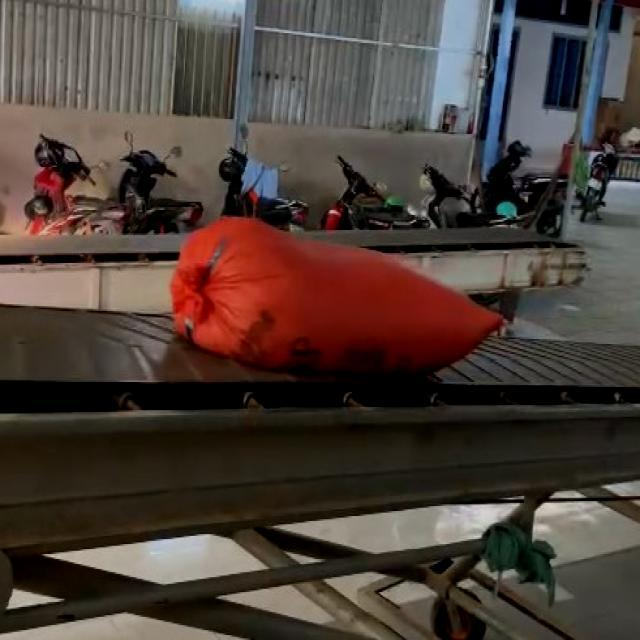gunny_bag: (169, 217, 501, 378)
